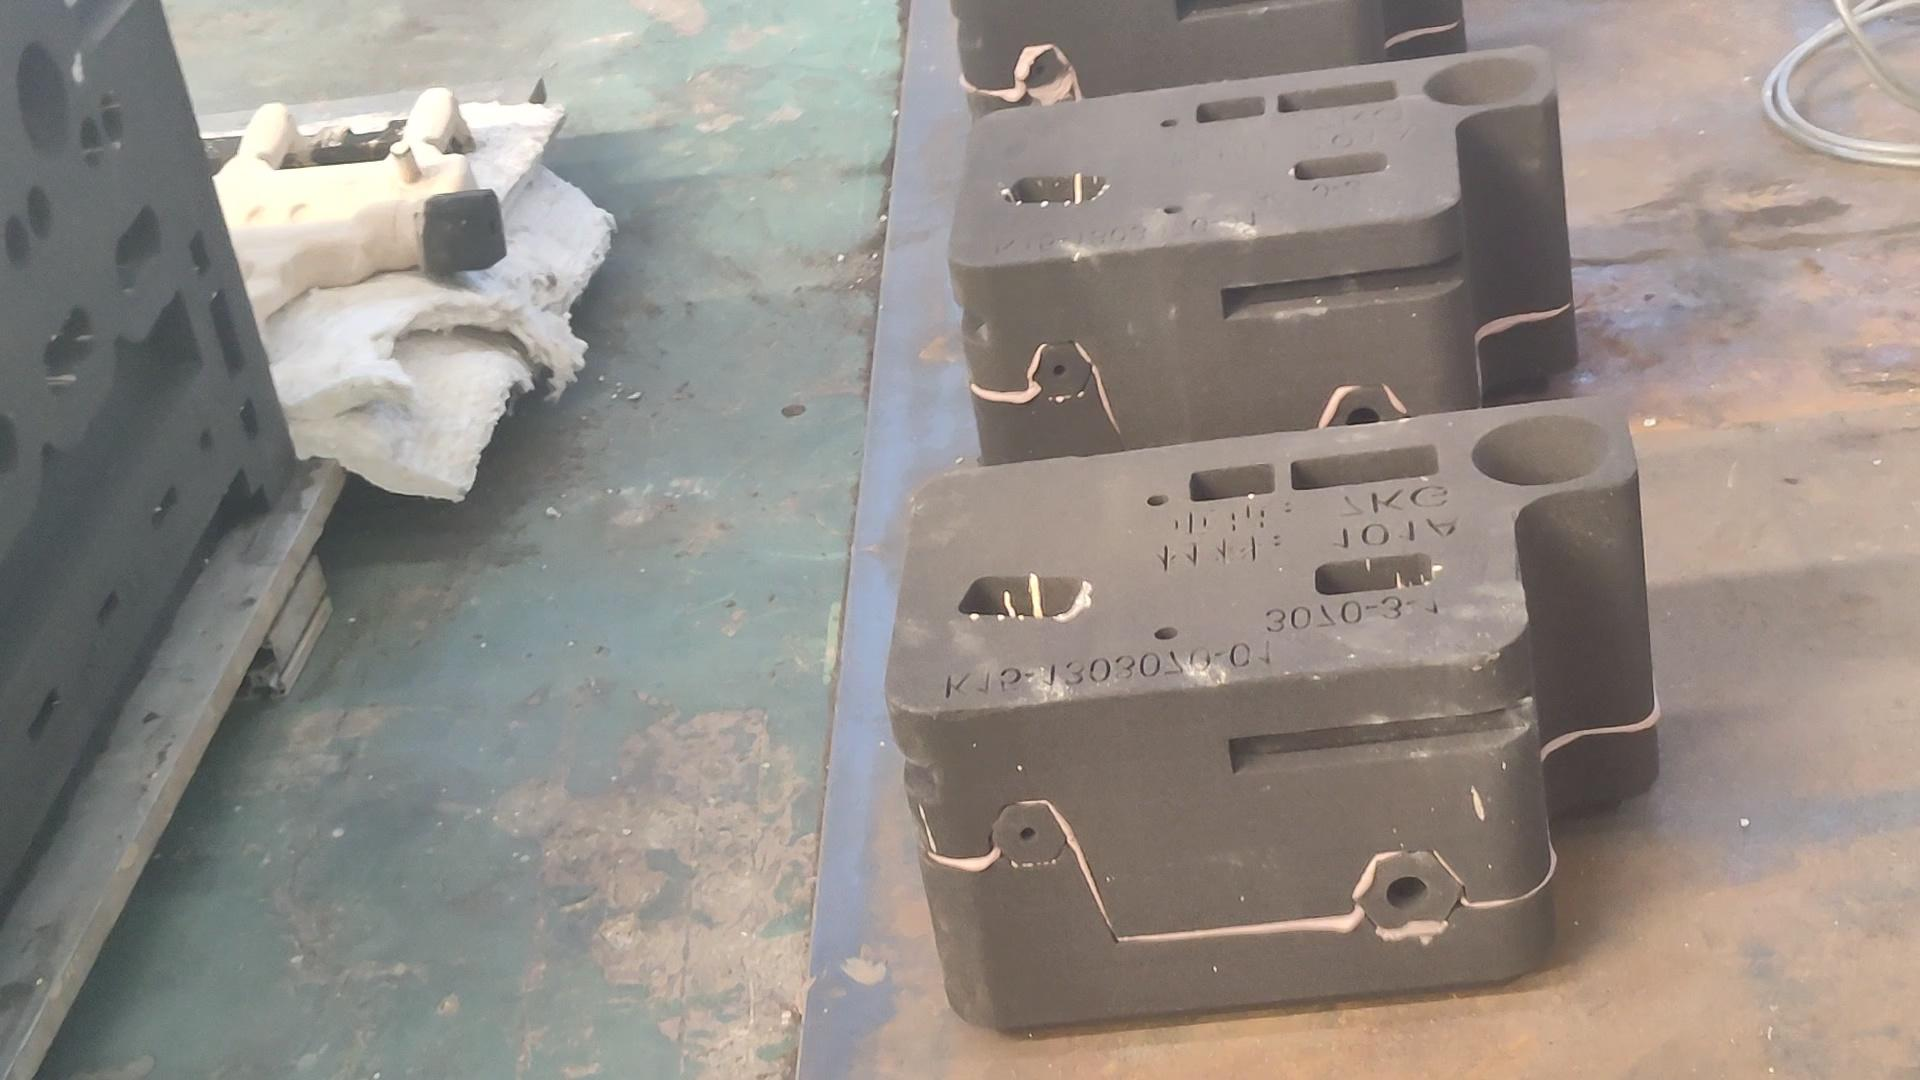pouring hole: (1470, 411, 1610, 485), (15, 41, 69, 161), (1423, 55, 1540, 108)
